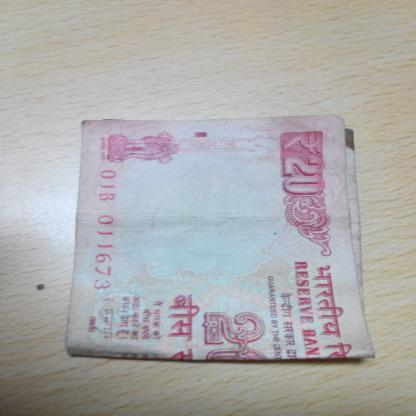Old20Front: (78, 122, 348, 360)
